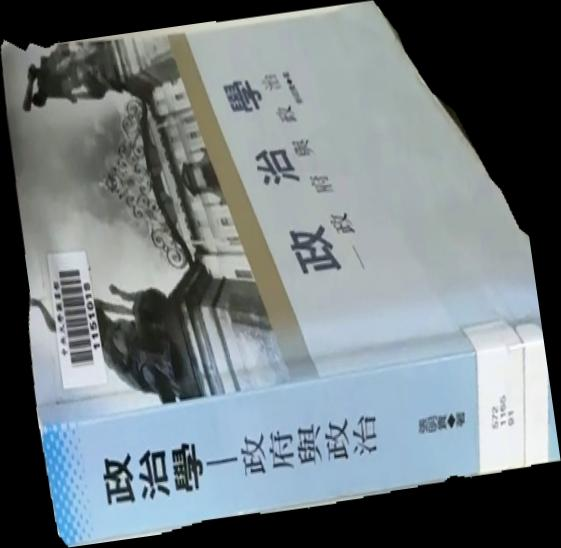flat: (1, 1, 561, 548)
